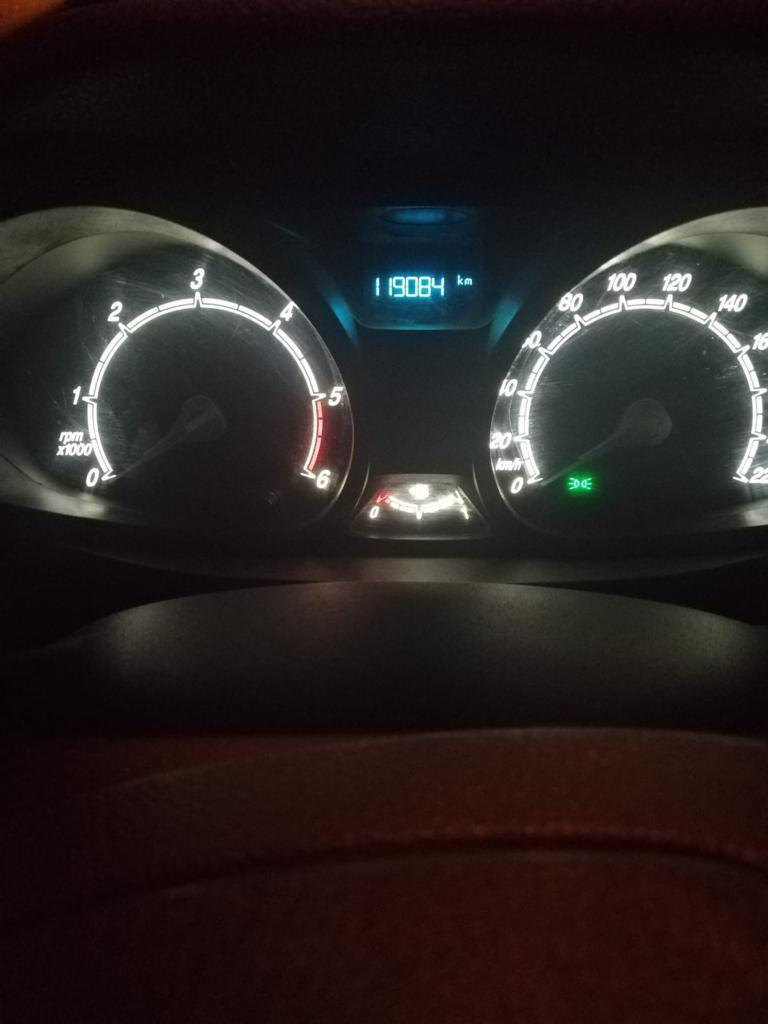0: (405, 275, 418, 297)
1: (375, 276, 381, 299), (387, 275, 392, 298)
4: (431, 277, 446, 297)
8: (419, 275, 431, 297)
9: (392, 276, 405, 297)
X: (456, 274, 463, 285), (463, 277, 471, 285)
odometer: (356, 259, 478, 311)
